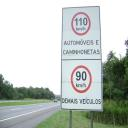speed_limit_110: (70, 12, 92, 36)
